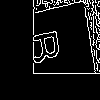B: (25, 25, 69, 68)
